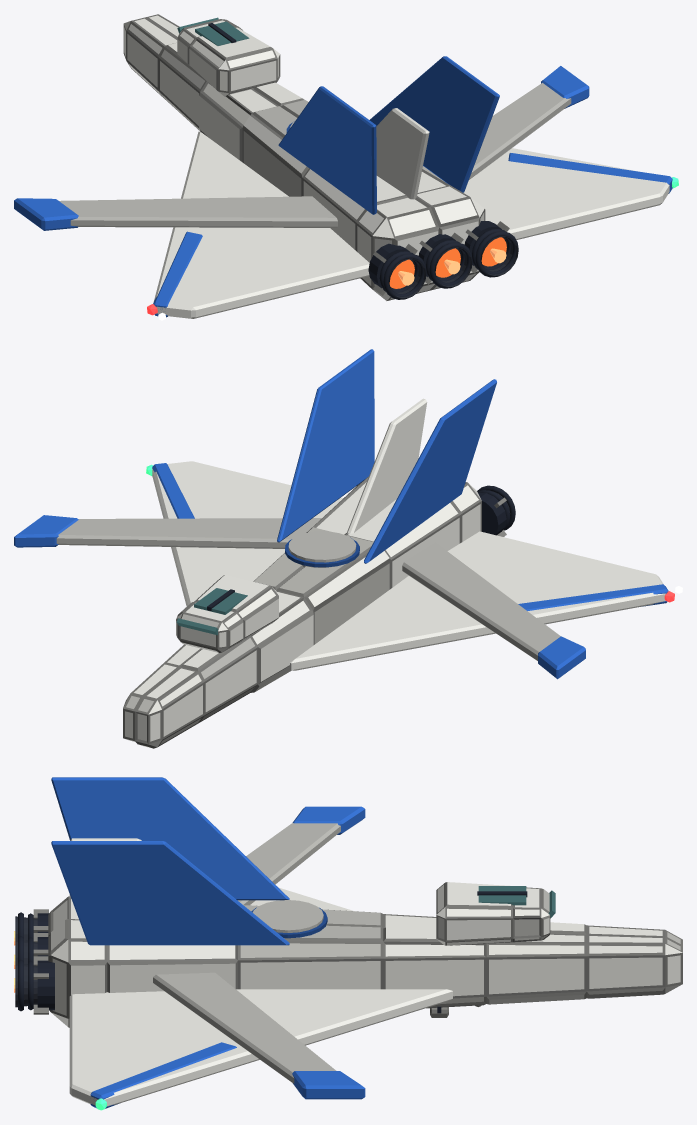
Rendered from falcon.glb.
The picture shows the model from 3 angles, top to bottom: view 1: azimuth 30°, elevation 25°; view 2: azimuth 150°, elevation 25°; view 3: azimuth 270°, elevation 25°; orthographic projection. The views are drawn at different scales.
Visible parts, largest first — view 1: falcon_mesh; view 2: falcon_mesh; view 3: falcon_mesh.
Part boxes in pixels (bbox=[...]): falcon_mesh: bbox=[14, 14, 678, 318]; falcon_mesh: bbox=[14, 349, 674, 748]; falcon_mesh: bbox=[14, 777, 682, 1110].
Bounding box in the file's own units: 9.47 × 3.12 × 9.52.
